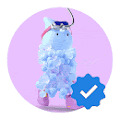fraud: (70, 72, 106, 110)
